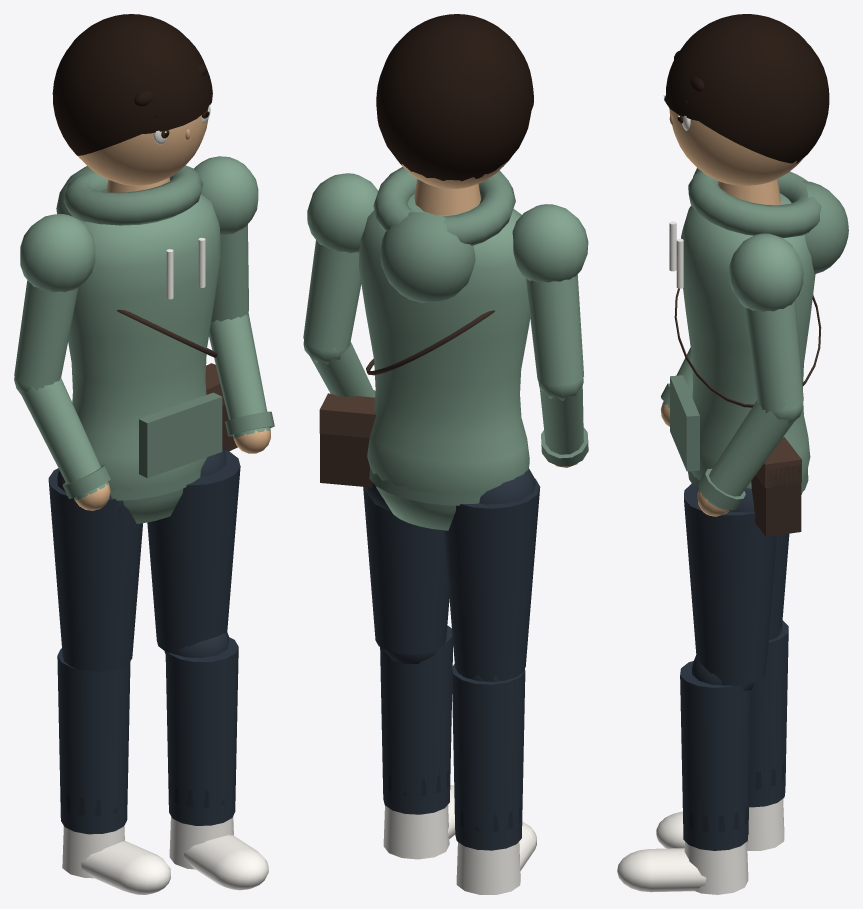
Rendered from 09-omar.glb.
The picture shows the model from 3 angles, left to right: view 1: azimuth 30°, elevation 25°; view 2: azimuth 150°, elevation 25°; view 3: azimuth 270°, elevation 25°; orthographic projection.
Visible parts, largest first — view 1: Omar, skull, elbow (×2), armR, armL; view 2: Omar, skull, armR, armL, elbow (×2); view 3: Omar, skull, armL, elbow (×2).
Boxes of the visible parts, x1,y1,x2,y2 form: Omar: (48, 165, 268, 894); skull: (52, 14, 212, 185); elbow (×2): (14, 312, 274, 510); armR: (14, 214, 95, 388); armL: (194, 156, 258, 322); Omar: (319, 167, 540, 894); skull: (376, 14, 533, 188); armR: (512, 204, 588, 385); armL: (303, 173, 378, 350); elbow (×2): (303, 341, 588, 467); Omar: (617, 170, 848, 894); skull: (663, 14, 829, 185); armL: (729, 233, 803, 410); elbow (×2): (660, 347, 803, 516).
Bounding box in the file's own units: 0.3886 × 1.25 × 0.3122.
